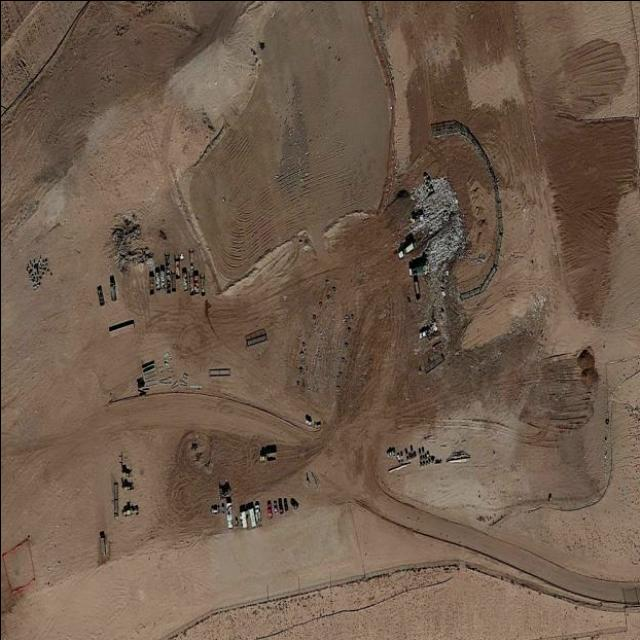dump_site: (399, 163, 474, 289)
